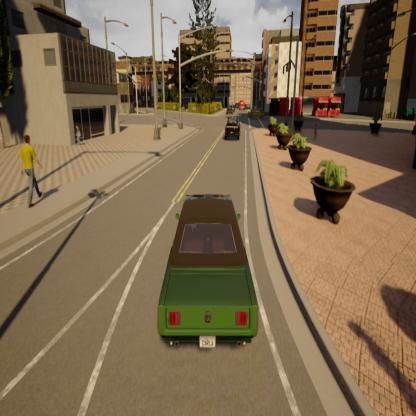Cars: (158, 193, 259, 348), (224, 118, 240, 138)
Pedestrian: (19, 134, 45, 207), (72, 124, 83, 146)
